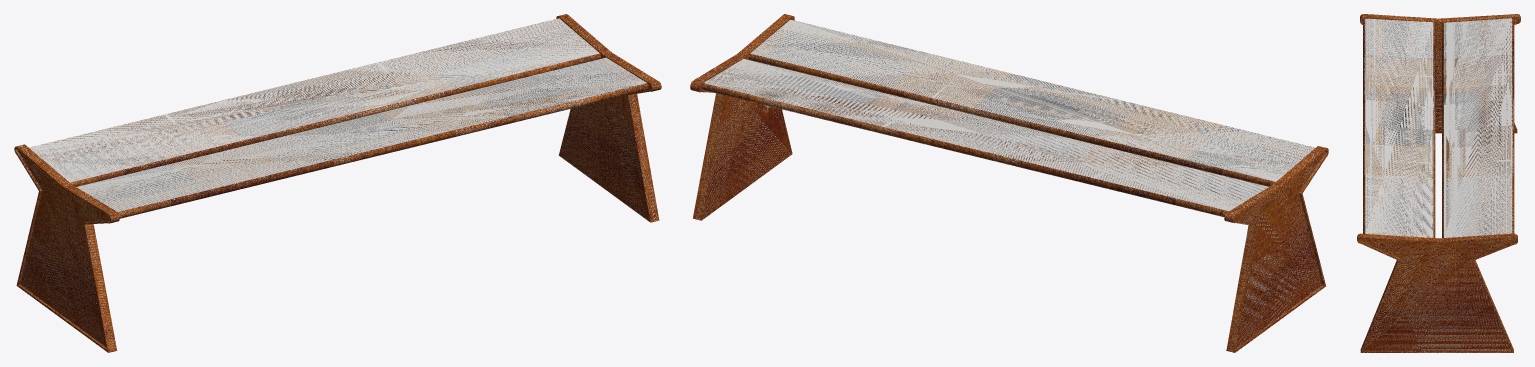
The picture shows the model from 3 angles, left to right: view 1: azimuth 30°, elevation 25°; view 2: azimuth 150°, elevation 25°; view 3: azimuth 270°, elevation 25°; orthographic projection. The views are drawn at different scales.
Visible parts, largest first — view 1: mesh1_mesh1-geometry, mesh3_mesh3-geometry, mesh4_mesh4-geometry, mesh2_mesh2-geometry; view 2: mesh3_mesh3-geometry, mesh1_mesh1-geometry, mesh4_mesh4-geometry, mesh2_mesh2-geometry; view 3: mesh3_mesh3-geometry, mesh1_mesh1-geometry, mesh2_mesh2-geometry, mesh4_mesh4-geometry.
Part boxes in pixels (bbox=[...]): mesh1_mesh1-geometry: bbox=[29, 18, 601, 186]; mesh3_mesh3-geometry: bbox=[76, 57, 648, 218]; mesh4_mesh4-geometry: bbox=[14, 144, 119, 352]; mesh2_mesh2-geometry: bbox=[556, 14, 661, 222]; mesh3_mesh3-geometry: bbox=[749, 19, 1315, 186]; mesh1_mesh1-geometry: bbox=[702, 59, 1268, 216]; mesh4_mesh4-geometry: bbox=[1224, 146, 1328, 352]; mesh2_mesh2-geometry: bbox=[690, 14, 794, 220]; mesh3_mesh3-geometry: bbox=[1363, 18, 1435, 237]; mesh1_mesh1-geometry: bbox=[1442, 18, 1514, 237]; mesh2_mesh2-geometry: bbox=[1357, 233, 1517, 352]; mesh4_mesh4-geometry: bbox=[1360, 14, 1520, 133].
Bounding box in the file's own units: 0.9307 × 0.2252 × 0.2883.
